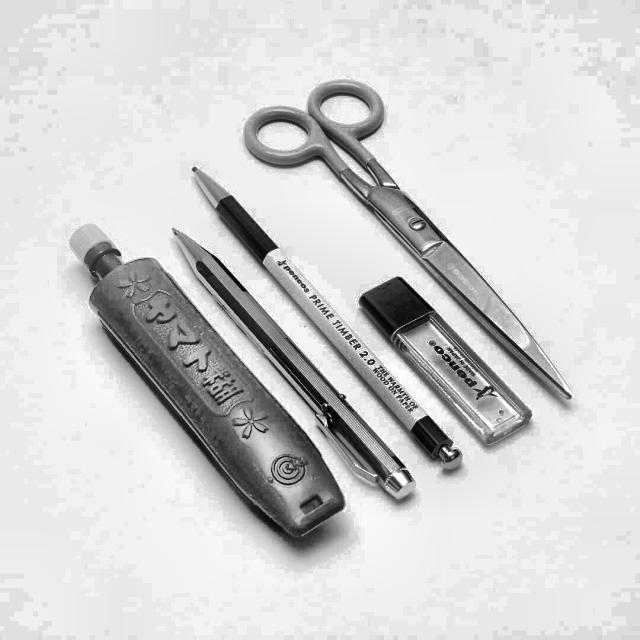Pen: (195, 160, 464, 473), (173, 226, 412, 496)
